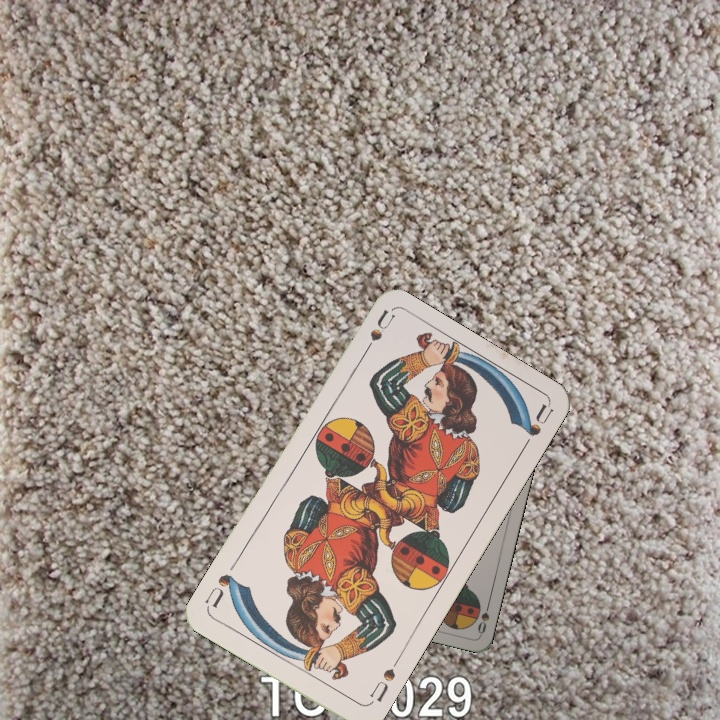SO: (474, 597, 493, 637)
SU: (356, 307, 397, 363), (365, 654, 403, 707)
